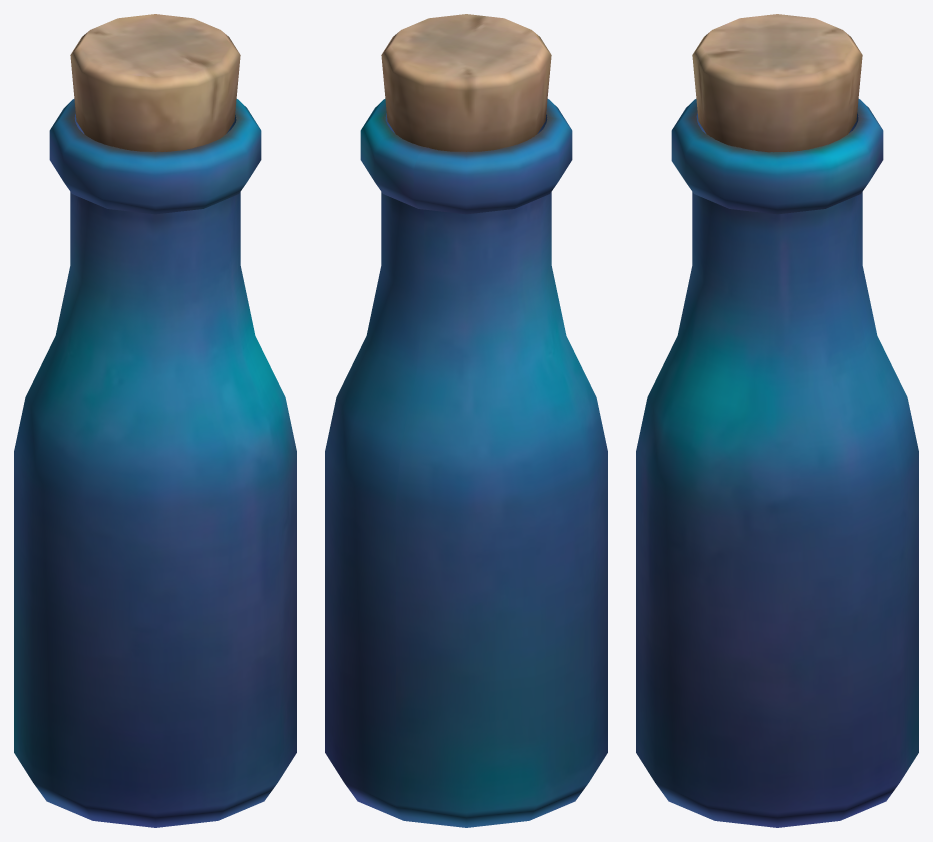
3 renders of one model, left to right at view 1: azimuth 30°, elevation 25°; view 2: azimuth 150°, elevation 25°; view 3: azimuth 270°, elevation 25°, orthographic.
Visible parts, largest first — view 1: SM_Weak_Blue_Potion_LOD0; view 2: SM_Weak_Blue_Potion_LOD0; view 3: SM_Weak_Blue_Potion_LOD0.
Boxes of the visible parts, box(x1,y1,x2,y2) form: SM_Weak_Blue_Potion_LOD0: box(14, 14, 296, 827); SM_Weak_Blue_Potion_LOD0: box(325, 14, 607, 827); SM_Weak_Blue_Potion_LOD0: box(636, 14, 918, 827).
Bounding box in the file's own units: 0.0834 × 0.2372 × 0.0834.
1 material, 1 textured.
